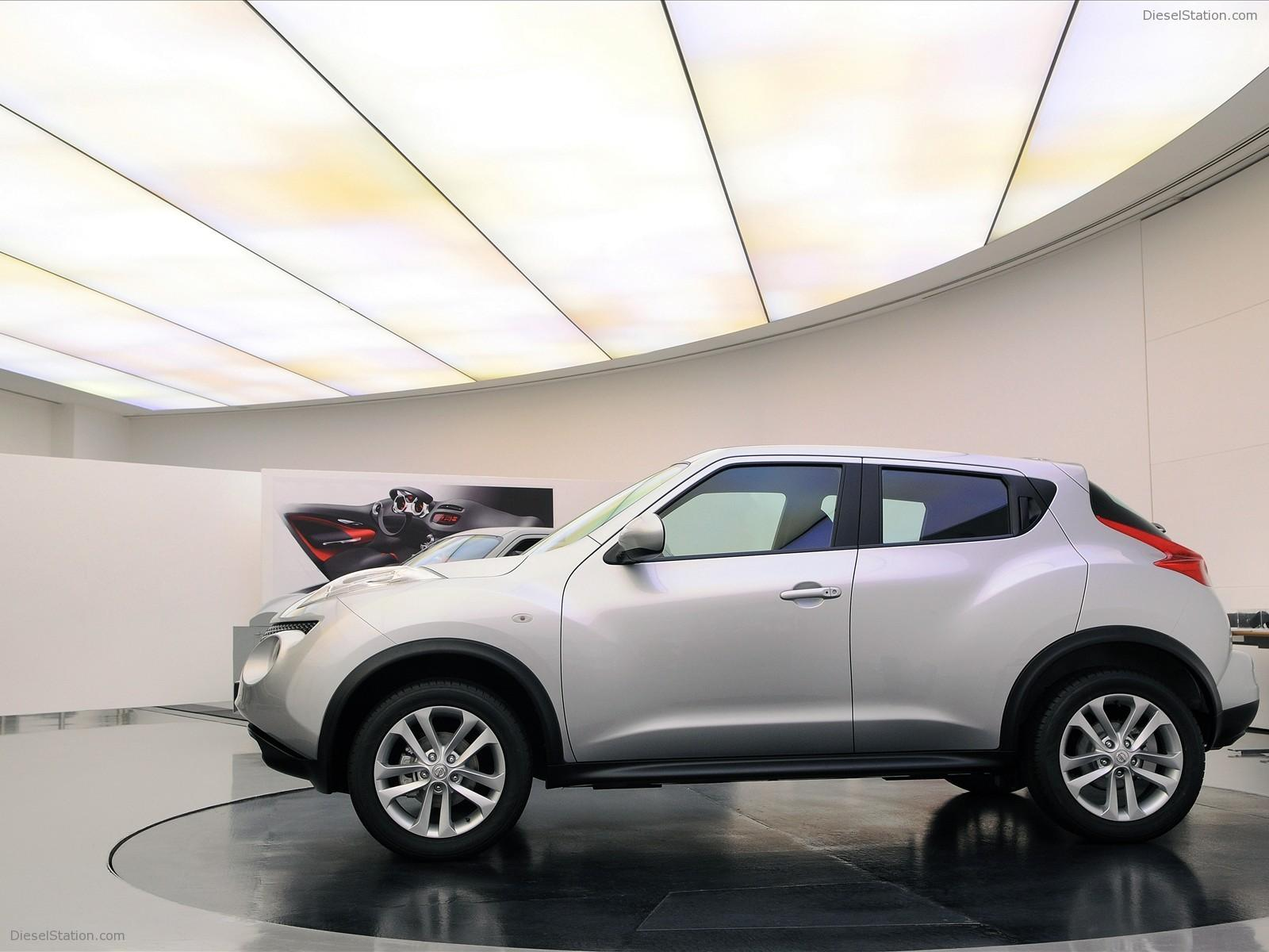Hatchback: (233, 443, 1259, 860)
